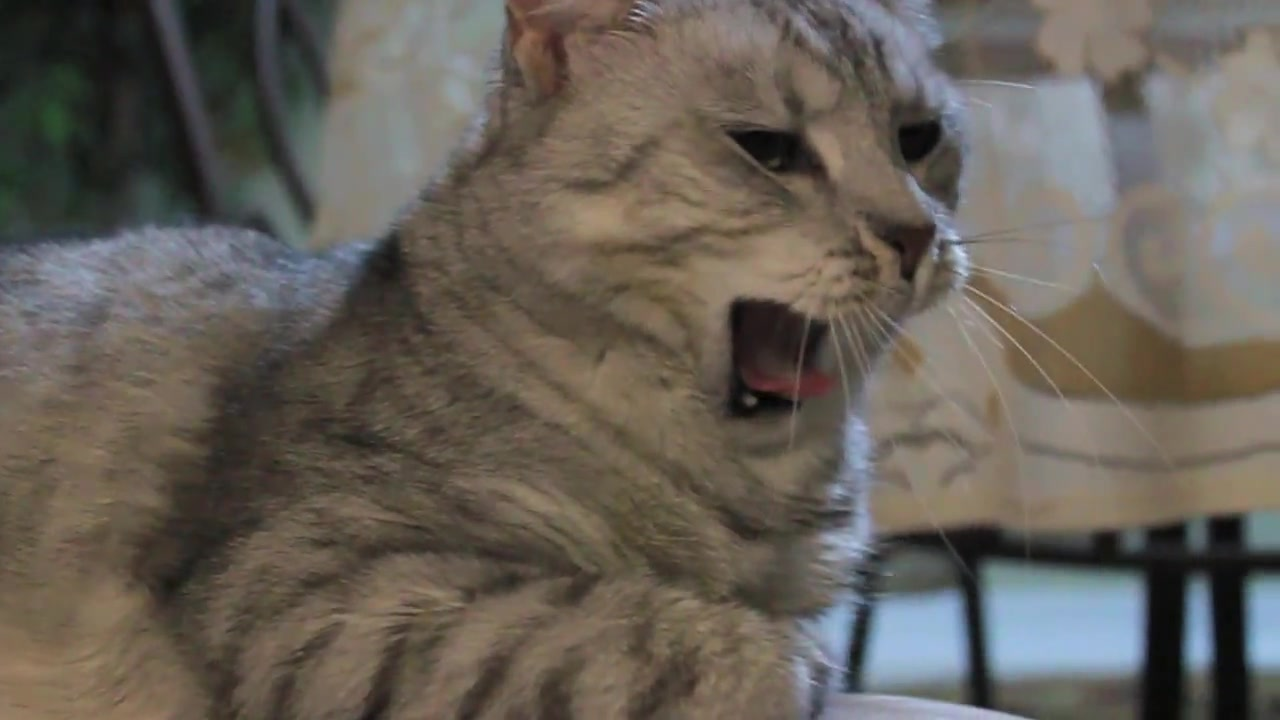cat: (1, 3, 978, 717)
